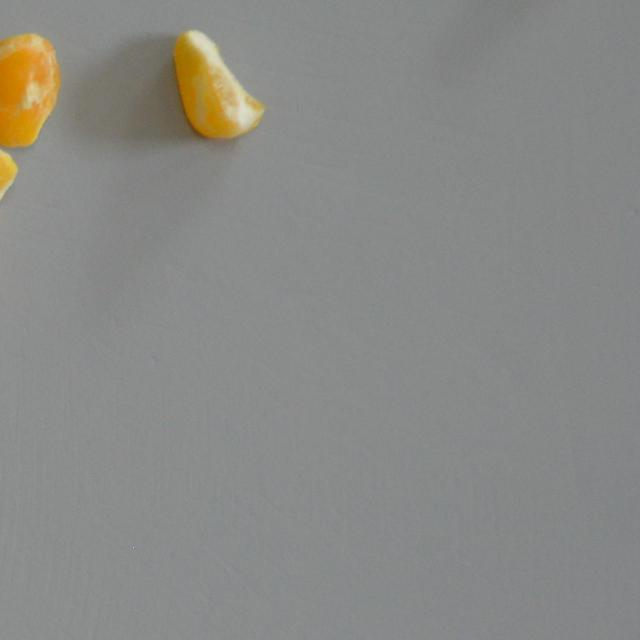dañado: (0, 30, 63, 152), (0, 140, 20, 239)
pelicula: (170, 22, 266, 145)
